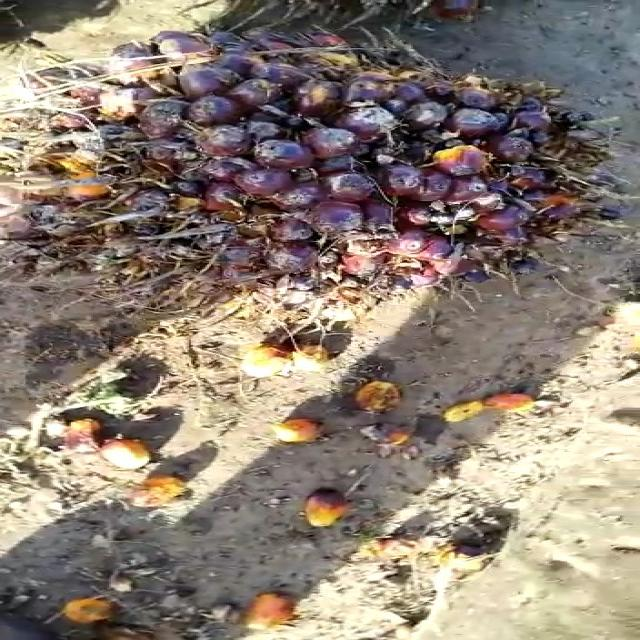palm oil: (56, 23, 633, 327)
